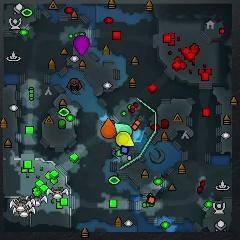p2: (114, 121, 133, 136)
p3: (75, 36, 89, 57)
p4: (116, 131, 136, 147)
p5: (100, 117, 117, 139)
